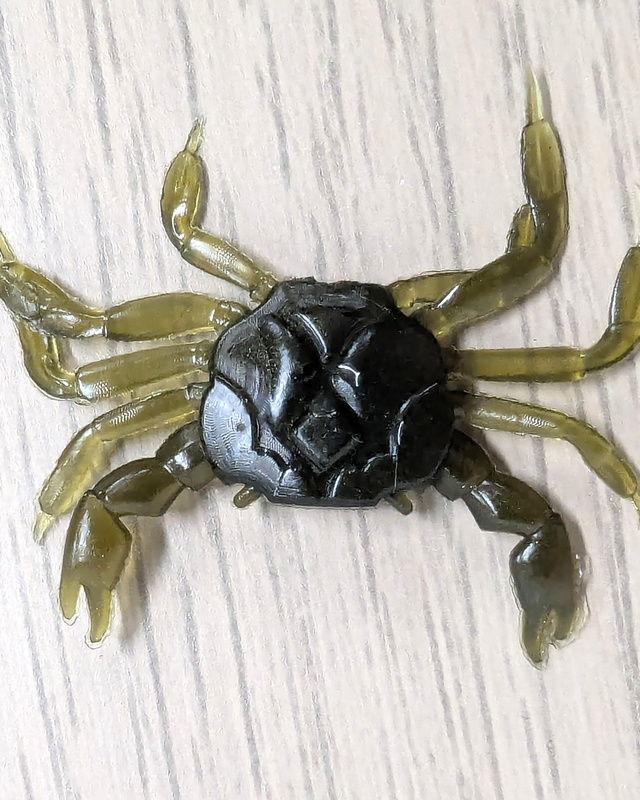crab2: (1, 66, 640, 669)
